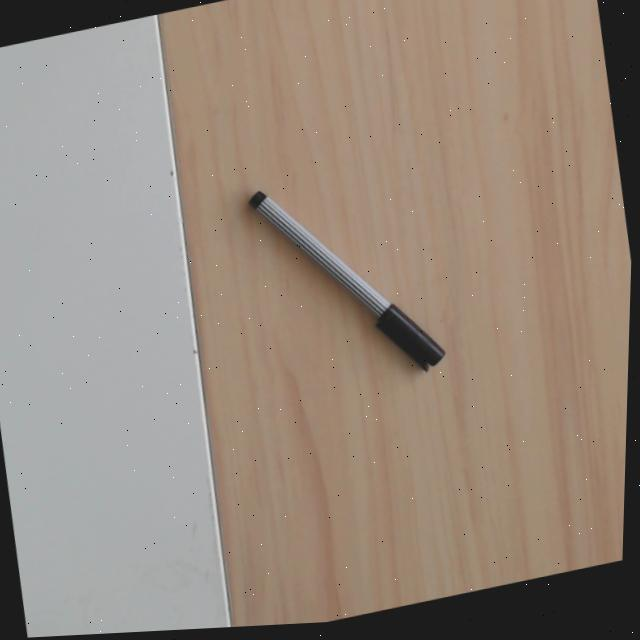Pulpen-Garis-Hitam: (239, 186, 454, 375)
